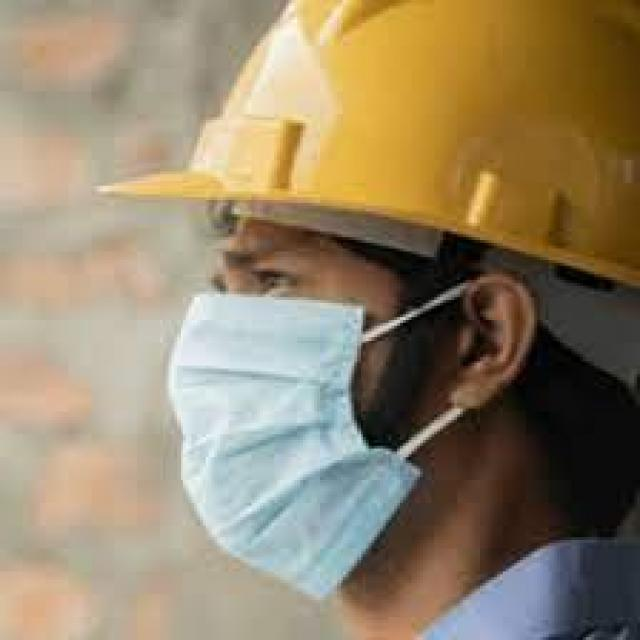Safety-Helmet: (109, 5, 632, 308)
